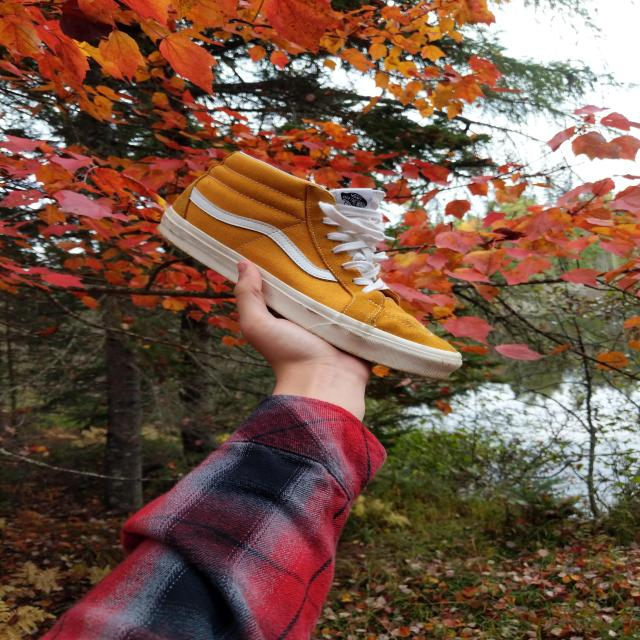shoe: (155, 146, 464, 381)
